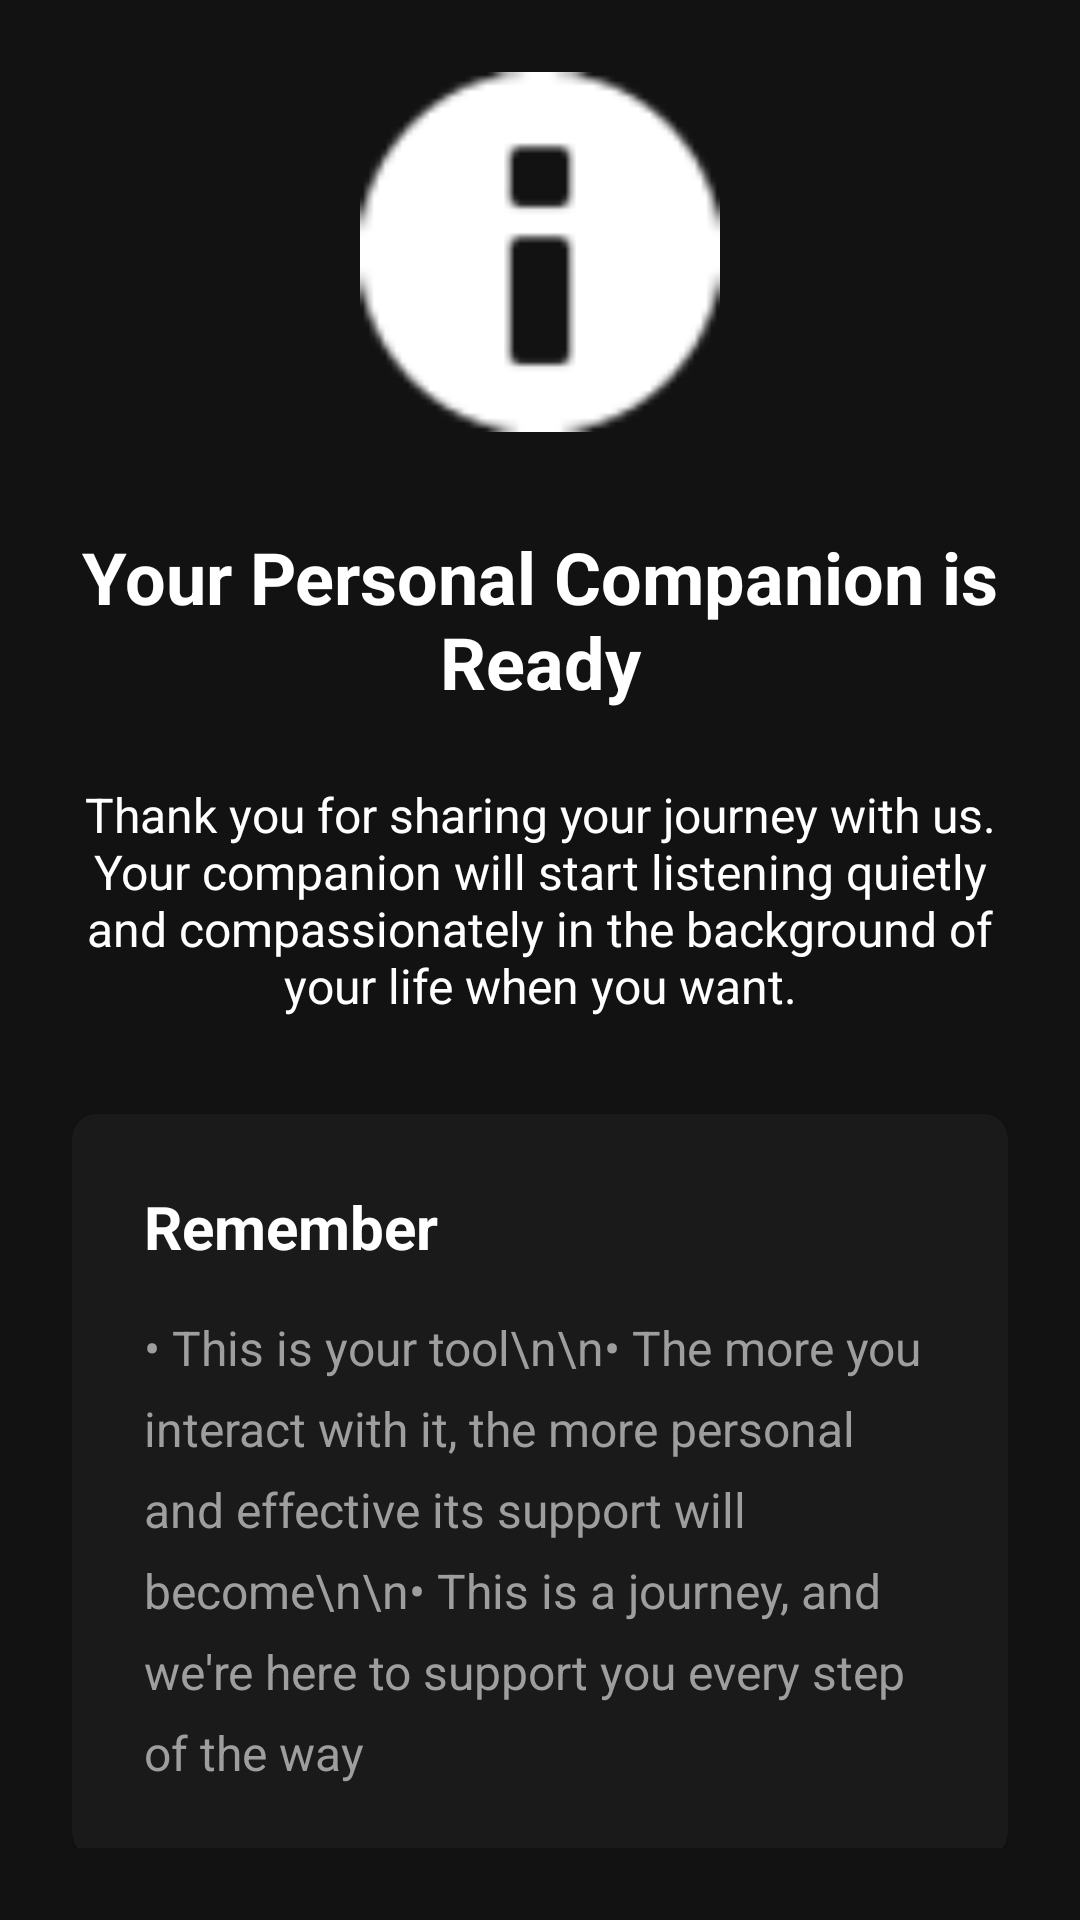

Icon bounding boxes for this 1080px x 1920px phone screenshot, format (x1, y1, x2, y2):
info: (360, 72, 720, 432)
